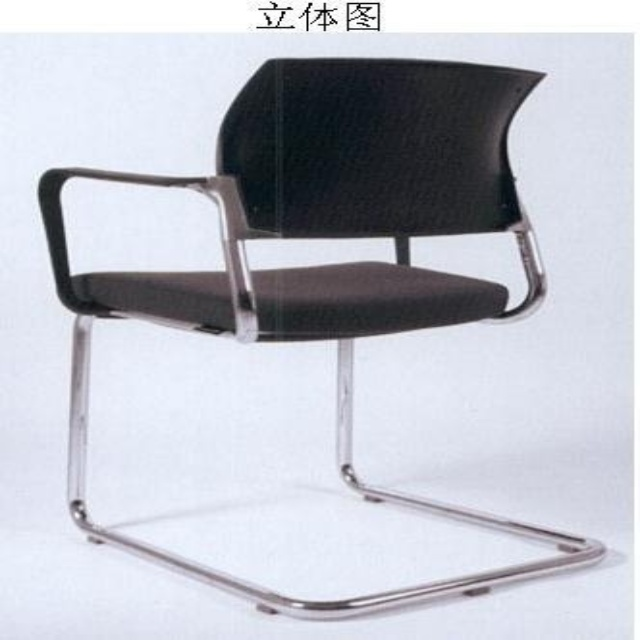obstacle: (39, 58, 603, 619)
